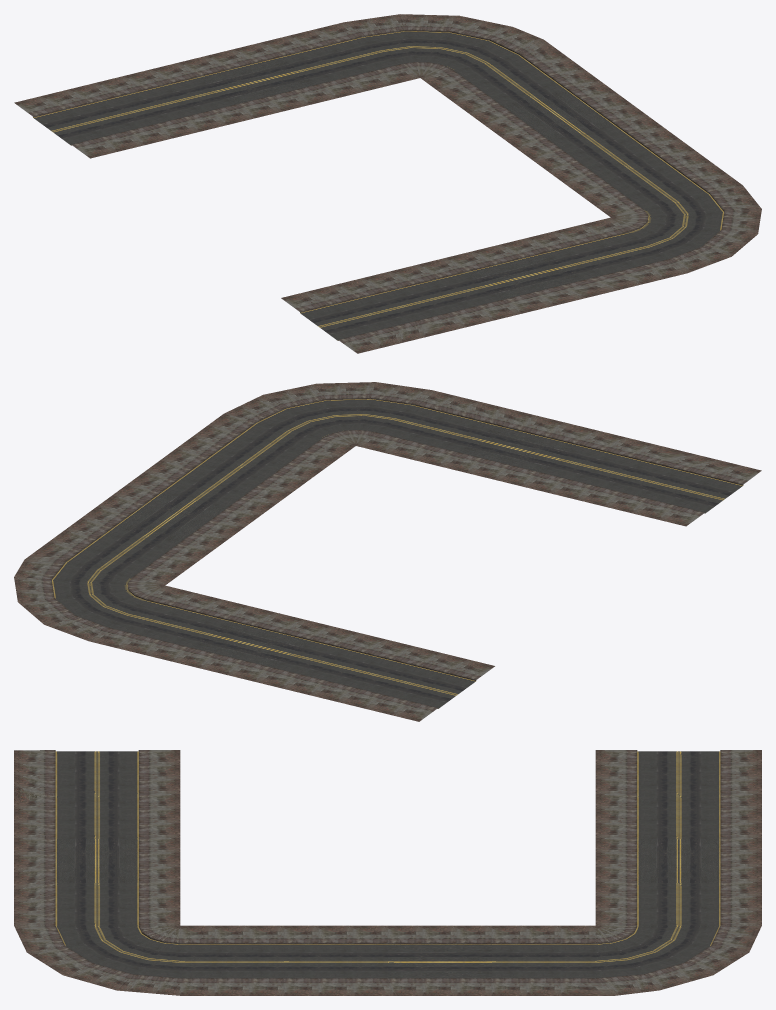
The model's file is cunte_roads21.obj.
The picture shows the model from 3 angles, top to bottom: view 1: azimuth 30°, elevation 25°; view 2: azimuth 150°, elevation 25°; view 3: azimuth 270°, elevation 25°; orthographic projection. The views are drawn at different scales.
Visible parts, largest first — view 1: cunte_roads21; view 2: cunte_roads21; view 3: cunte_roads21.
Boxes of the visible parts, <box> form: cunte_roads21: <box>14,14,761,353</box>; cunte_roads21: <box>14,382,761,721</box>; cunte_roads21: <box>14,750,761,995</box>.
Bounding box in the file's own units: 70.01 × 0.158 × 90.02.
Materials: 2 (2 with a texture image).
